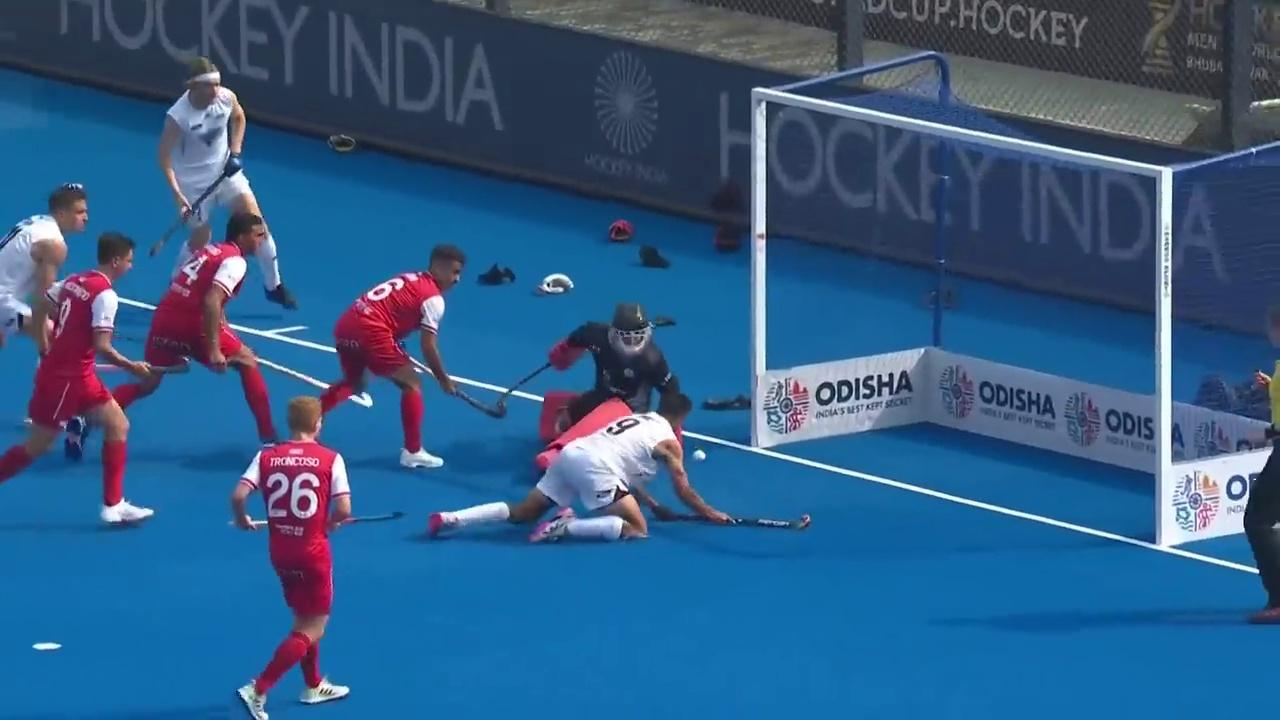ball: (684, 443, 715, 470)
